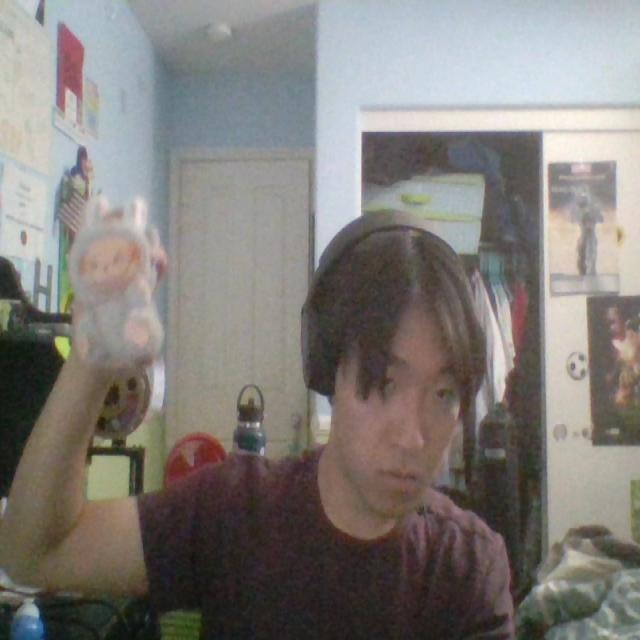labubu: (69, 196, 163, 429)
